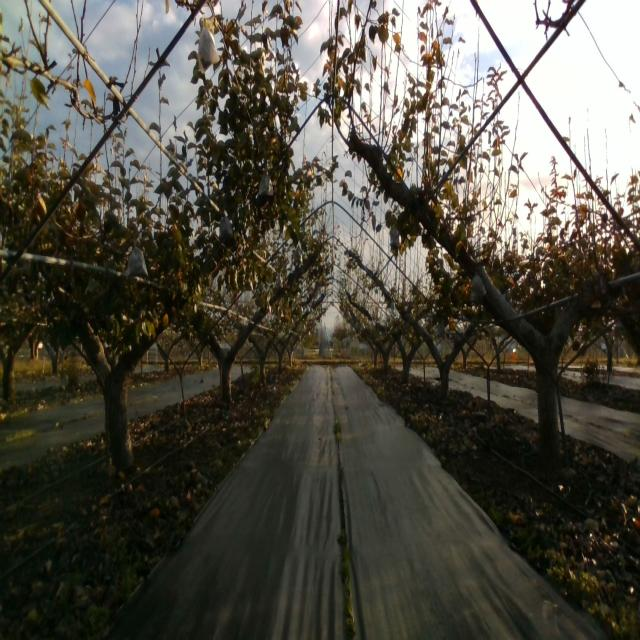pearbags: (197, 17, 220, 74), (126, 239, 148, 279), (470, 268, 487, 302), (258, 168, 274, 197), (219, 214, 234, 244), (389, 221, 400, 248)
